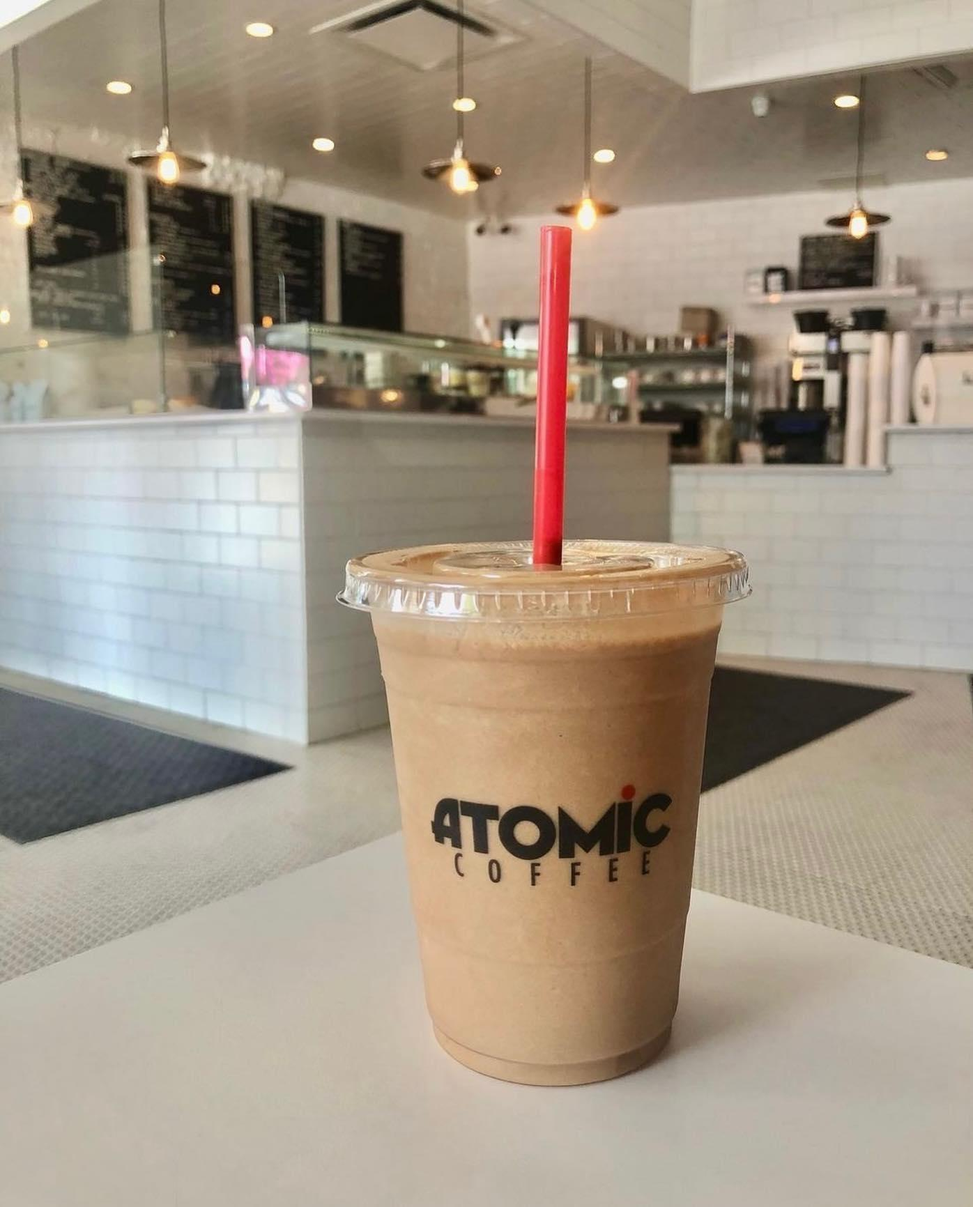cup-disposable: (331, 525, 753, 1084)
